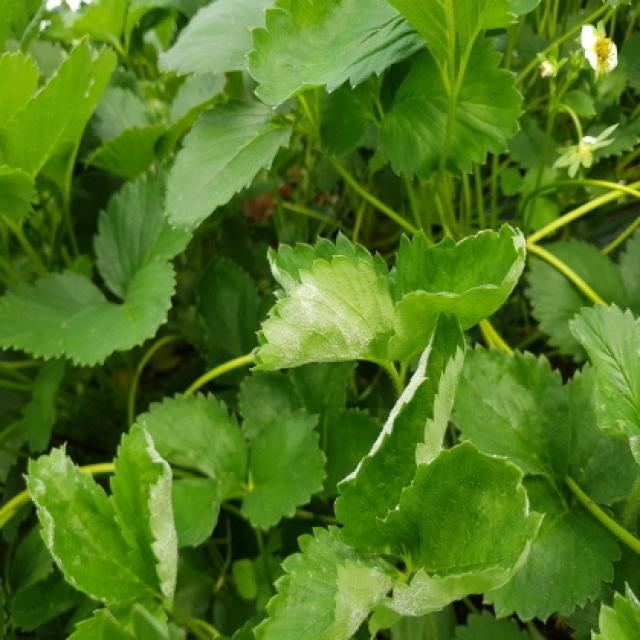Powdery Mildew Leaf: (333, 306, 469, 558), (376, 441, 547, 617), (248, 229, 398, 373), (21, 442, 151, 608), (387, 221, 529, 361), (252, 523, 404, 638), (107, 422, 180, 616)
